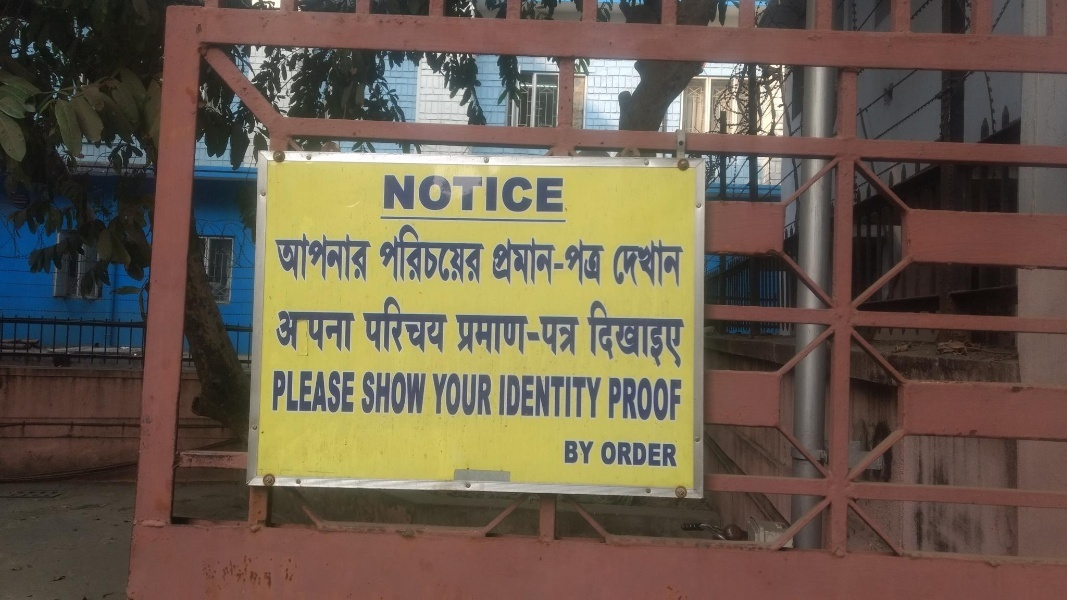text: (593, 296, 608, 371), (609, 296, 624, 371), (625, 296, 640, 371), (641, 296, 656, 371), (657, 296, 672, 371), (673, 296, 687, 371), (385, 218, 400, 286), (401, 218, 416, 286), (417, 218, 432, 286), (433, 218, 448, 286), (449, 218, 464, 286), (465, 218, 480, 286), (369, 296, 384, 356), (385, 296, 400, 356), (401, 296, 416, 356), (417, 296, 432, 356), (433, 296, 448, 356), (625, 237, 640, 295), (641, 237, 656, 295), (657, 237, 672, 295), (497, 235, 512, 290), (513, 235, 528, 290), (529, 235, 544, 290), (545, 235, 560, 290), (561, 235, 576, 290), (577, 235, 592, 290), (289, 232, 304, 284), (305, 232, 320, 284), (321, 232, 336, 284), (337, 232, 352, 284), (353, 232, 368, 284), (611, 237, 624, 295), (673, 237, 686, 295), (529, 310, 545, 357), (433, 369, 448, 418), (449, 369, 464, 418), (465, 369, 480, 418), (274, 232, 288, 284), (289, 307, 304, 355), (305, 307, 320, 355), (321, 307, 336, 355), (337, 307, 352, 355), (593, 235, 606, 290), (513, 374, 528, 421), (529, 374, 544, 421), (545, 374, 560, 421), (561, 374, 576, 421), (577, 374, 592, 421), (465, 310, 480, 357), (481, 310, 496, 357), (497, 310, 512, 357), (513, 310, 528, 357), (369, 370, 384, 416), (385, 370, 400, 416), (401, 370, 416, 416), (273, 369, 288, 415), (289, 369, 304, 415), (305, 369, 320, 415), (321, 369, 336, 415), (337, 369, 352, 415), (609, 376, 624, 422), (625, 376, 640, 422), (641, 376, 656, 422), (657, 376, 672, 422), (673, 376, 688, 422), (545, 314, 560, 359), (561, 314, 576, 359), (385, 172, 400, 215), (401, 172, 416, 215), (417, 172, 432, 215), (433, 172, 448, 215), (449, 172, 464, 215), (465, 172, 480, 215), (481, 172, 496, 215), (497, 172, 512, 215), (513, 172, 528, 215), (529, 172, 544, 215), (545, 172, 560, 215), (417, 370, 430, 416), (481, 369, 493, 418), (276, 307, 288, 355), (500, 374, 512, 421), (481, 218, 489, 286), (593, 374, 604, 421), (586, 296, 592, 371), (609, 440, 624, 469), (625, 440, 640, 469), (641, 440, 656, 469), (657, 440, 672, 469), (561, 172, 571, 215), (455, 310, 464, 357), (577, 439, 592, 466), (362, 296, 368, 356), (563, 439, 576, 466), (490, 235, 496, 290), (353, 369, 359, 415), (380, 218, 384, 286), (538, 314, 544, 359), (599, 440, 608, 469), (363, 370, 368, 416), (577, 314, 582, 359), (369, 232, 373, 284), (428, 369, 432, 418), (673, 440, 679, 469), (353, 307, 356, 355), (381, 172, 384, 215), (449, 296, 451, 356), (593, 439, 597, 466)
